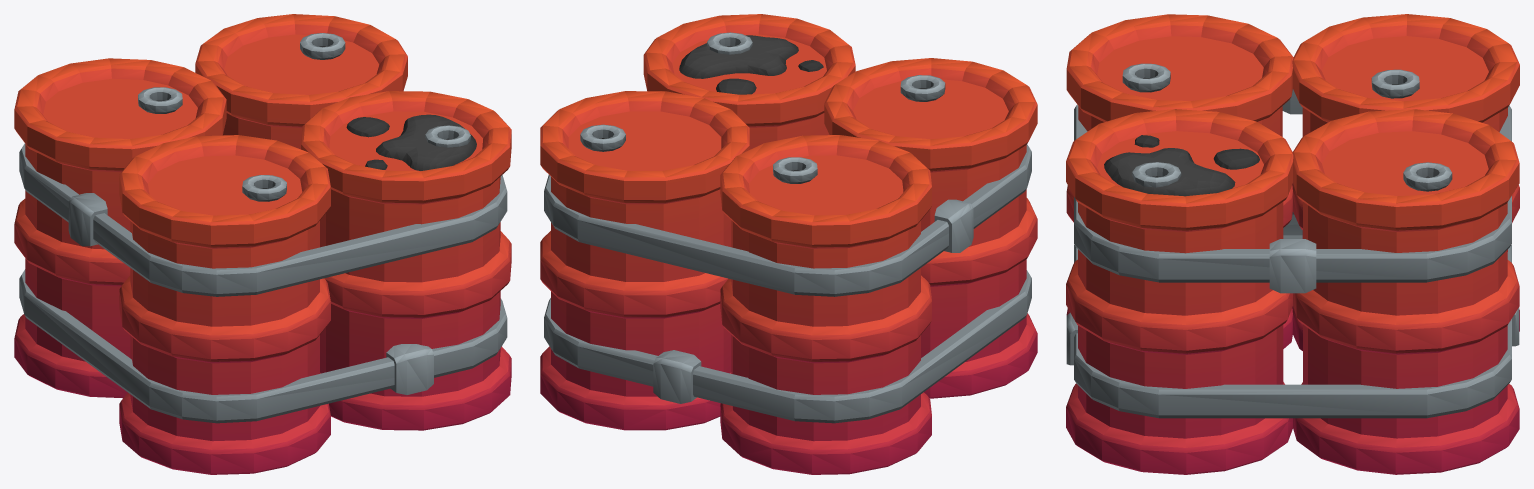
The model's file is res_fuel_a_barrels.fbx.
3 views of the same model, side by side, from view 1: azimuth 30°, elevation 25°; view 2: azimuth 150°, elevation 25°; view 3: azimuth 270°, elevation 25° (orthographic). The views are drawn at different scales.
Parts seen in each view (by area): view 1: res_fuel_a_barrels_LOD0; view 2: res_fuel_a_barrels_LOD0; view 3: res_fuel_a_barrels_LOD0.
Boxes of the visible parts, bbox=[...] form: res_fuel_a_barrels_LOD0: bbox=[14, 14, 511, 474]; res_fuel_a_barrels_LOD0: bbox=[540, 14, 1037, 474]; res_fuel_a_barrels_LOD0: bbox=[1066, 14, 1519, 474].
Size of what is drawn, in the model's own units: 1.4 by 0.9313 by 1.4.
1 material, 1 textured.
